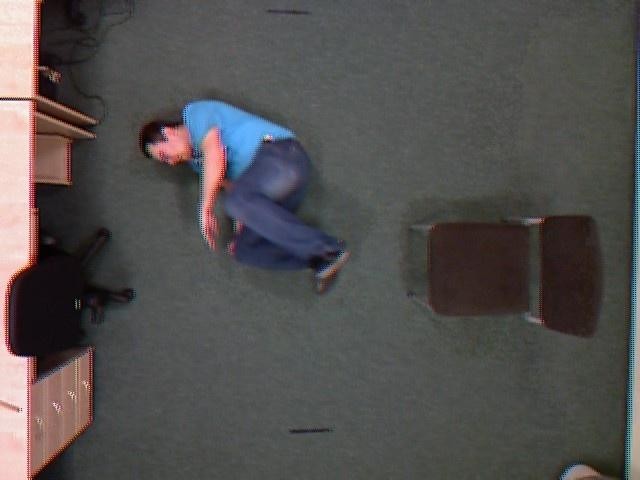fall: (126, 94, 369, 294)
